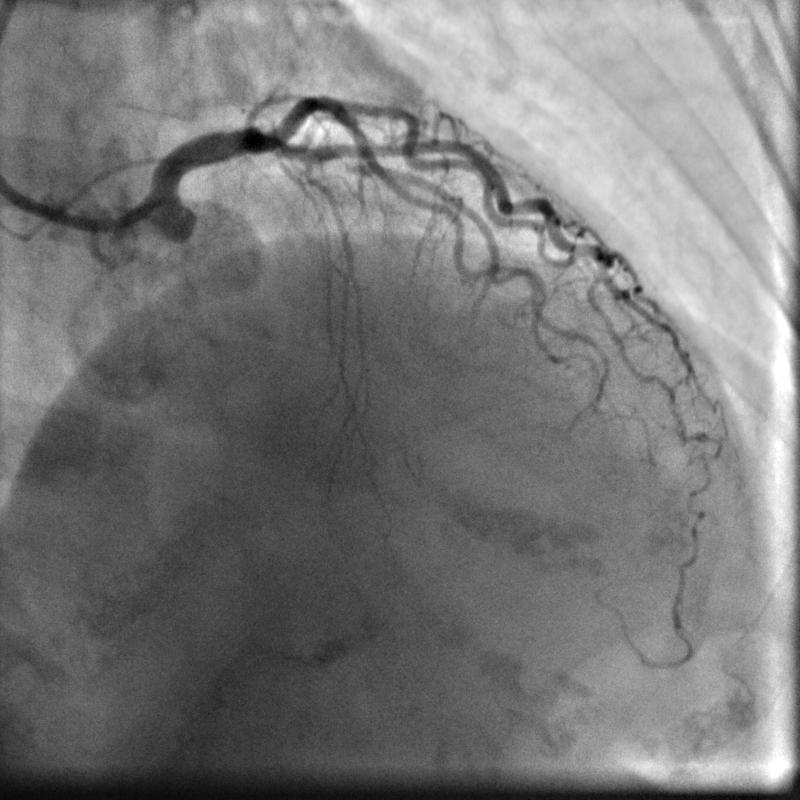Stenosis: (337, 155, 365, 174)
